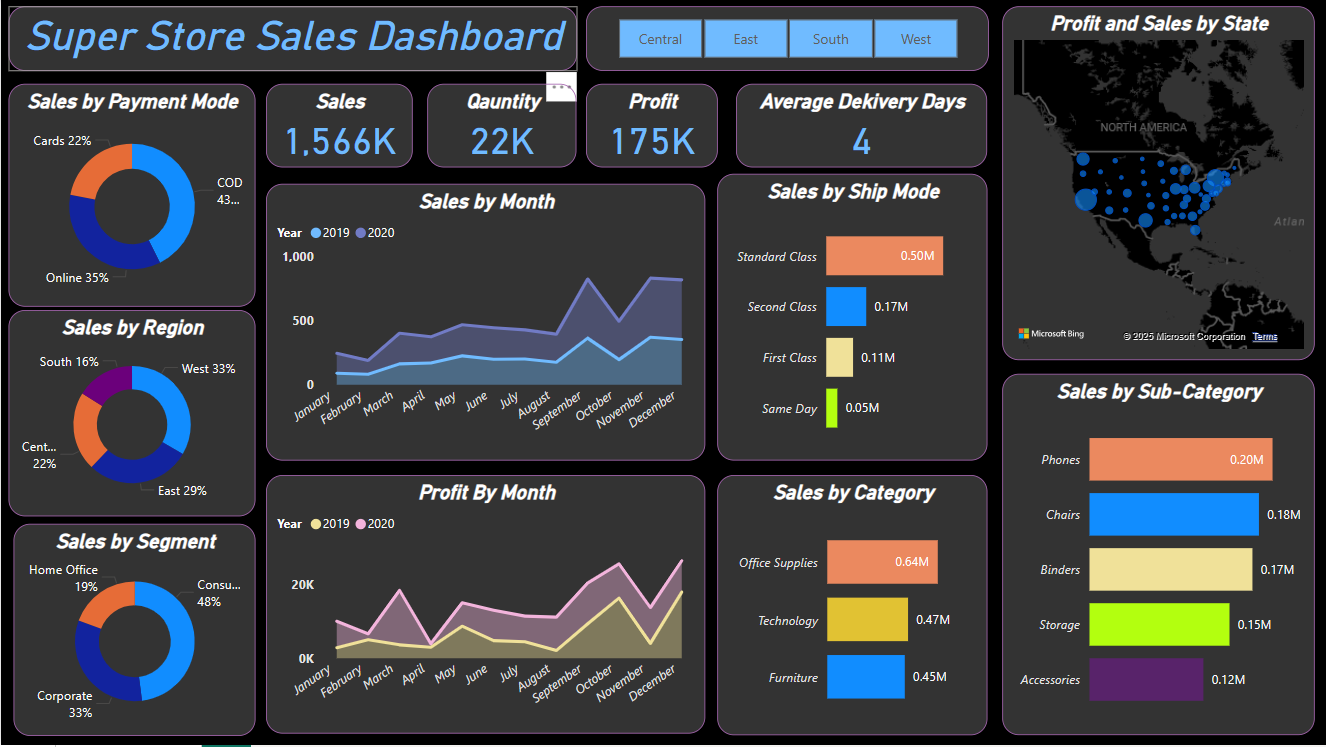

The dashboard page shown, as its layout file describes it:
{"tool":"powerbi","page":{"name":"Dashboard","canvas":[1280,720],"ordinal":0},"visuals":[{"type":"clusteredBarChart","title":"Sales by Category","fields":{"Category":["SuperStore_Sales.Category"],"Y":["Sum(SuperStore_Sales.Sales)"]},"box":[691.1,458.8,261.1,251],"z":0},{"type":"clusteredBarChart","title":"Sales by Ship Mode","fields":{"Category":["SuperStore_Sales.Ship Mode"],"Y":["Sum(SuperStore_Sales.Sales)"]},"box":[691.1,167.4,261.1,277],"z":1000},{"type":"clusteredBarChart","title":"Sales by Sub-Category","fields":{"Category":["SuperStore_Sales.Sub-Category"],"Y":["Sum(SuperStore_Sales.Sales)"]},"box":[966.7,360.7,301.5,349.1],"z":2000},{"type":"stackedAreaChart","title":"Sales by Month","fields":{"Category":["SuperStore_Sales.Order Date.Variation.Date Hierarchy.Month"],"Y":["CountNonNull(SuperStore_Sales.Region)"],"Series":["SuperStore_Sales.Order Date.Variation.Date Hierarchy.Year"]},"box":[255.4,177.5,424.2,266.9],"z":3000},{"type":"stackedAreaChart","title":"Profit By Month","fields":{"Category":["SuperStore_Sales.Order Date.Variation.Date Hierarchy.Month"],"Series":["SuperStore_Sales.Order Date.Variation.Date Hierarchy.Year"],"Y":["Sum(SuperStore_Sales.Profit)"]},"box":[255.4,458.8,424.2,249.6],"z":4000},{"type":"map","title":"Profit and Sales by State","fields":{"Category":["SuperStore_Sales.State"],"Size":["Sum(SuperStore_Sales.Sales)"]},"box":[966.4,6,301.6,341.4],"z":5000},{"type":"donutChart","title":"Sales by Segment","fields":{"Category":["SuperStore_Sales.Segment"],"Y":["Sum(SuperStore_Sales.Sales)"]},"box":[11.5,505,233.7,204.9],"z":6000},{"type":"donutChart","title":"Sales by Payment Mode","fields":{"Y":["Sum(SuperStore_Sales.Sales)"],"Category":["SuperStore_Sales.Payment Mode"]},"box":[7.2,80.8,238.1,215],"z":7000},{"type":"donutChart","title":"Sales by Region","fields":{"Y":["Sum(SuperStore_Sales.Sales)"],"Category":["SuperStore_Sales.Region"]},"box":[7.2,298.7,238.1,199.1],"z":8000},{"type":"slicer","title":"Region","fields":{"Values":["SuperStore_Sales.Region"]},"box":[564.6,6,388.5,62.7],"z":9000},{"type":"textbox","title":"Super Store Sales Dashboard","box":[7.2,6,548.9,62.7],"z":10000},{"type":"card","title":"Sales","fields":{"Values":["Sum(SuperStore_Sales.Sales)"]},"box":[255.4,80.8,141.4,80.8],"z":11000},{"type":"card","title":"Qauntity","fields":{"Values":["Sum(SuperStore_Sales.Quantity)"]},"box":[411.2,80.8,144.3,80.8],"z":12000},{"type":"card","title":"Profit","fields":{"Values":["Sum(SuperStore_Sales.Profit)"]},"box":[564.1,80.8,127,80.8],"z":13000},{"type":"card","title":"Average Dekivery Days","fields":{"Values":["Avg(SuperStore_Sales.AvgDelivery)"]},"box":[709.8,80.8,242.4,80.8],"z":14000}]}

Visuals, with their boxes in screenshot pixels (x1, y1, x2, y2), scaled from the page's 1280x720 canvas onto the 1326x747 screenshot:
"Sales by Category" clusteredBarChart: {"left": 716, "top": 476, "right": 986, "bottom": 736}
"Sales by Ship Mode" clusteredBarChart: {"left": 716, "top": 174, "right": 986, "bottom": 461}
"Sales by Sub-Category" clusteredBarChart: {"left": 1001, "top": 374, "right": 1314, "bottom": 736}
"Sales by Month" stackedAreaChart: {"left": 265, "top": 184, "right": 704, "bottom": 461}
"Profit By Month" stackedAreaChart: {"left": 265, "top": 476, "right": 704, "bottom": 735}
"Profit and Sales by State" map: {"left": 1001, "top": 6, "right": 1314, "bottom": 360}
"Sales by Segment" donutChart: {"left": 12, "top": 524, "right": 254, "bottom": 737}
"Sales by Payment Mode" donutChart: {"left": 7, "top": 84, "right": 254, "bottom": 307}
"Sales by Region" donutChart: {"left": 7, "top": 310, "right": 254, "bottom": 516}
"Region" slicer: {"left": 585, "top": 6, "right": 987, "bottom": 71}
"Super Store Sales Dashboard" textbox: {"left": 7, "top": 6, "right": 576, "bottom": 71}
"Sales" card: {"left": 265, "top": 84, "right": 411, "bottom": 168}
"Qauntity" card: {"left": 426, "top": 84, "right": 575, "bottom": 168}
"Profit" card: {"left": 584, "top": 84, "right": 716, "bottom": 168}
"Average Dekivery Days" card: {"left": 735, "top": 84, "right": 986, "bottom": 168}
